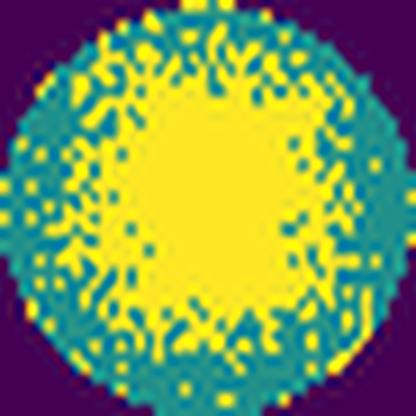Center: (72, 41, 336, 350)
